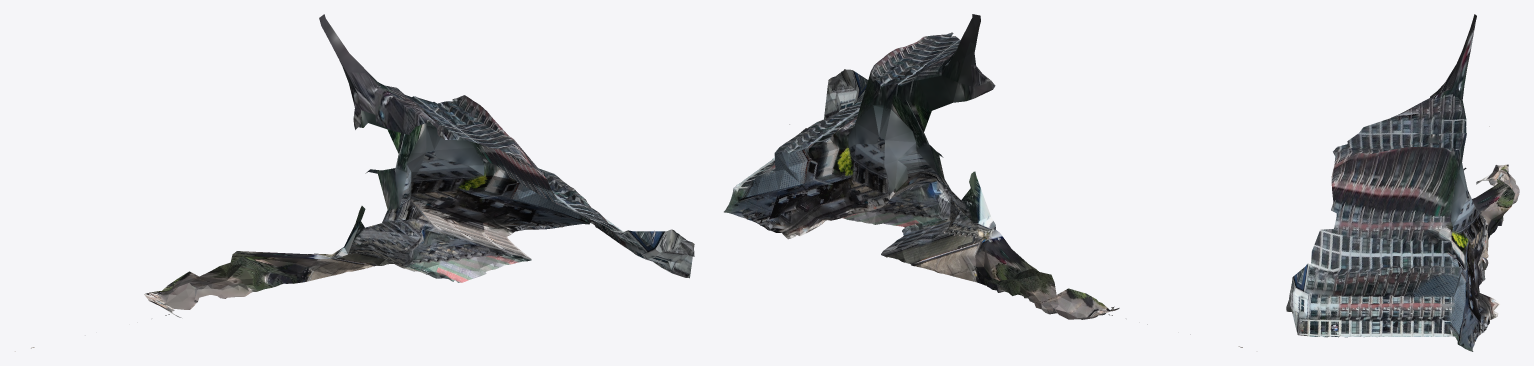
The model's file is Tile_+001_+004.obj.
3 views of the same model, side by side, from view 1: azimuth 30°, elevation 25°; view 2: azimuth 150°, elevation 25°; view 3: azimuth 270°, elevation 25° (orthographic). The views are drawn at different scales.
Size of the model in its own units: 155 by 70.97 by 65.66.
Materials: 2 (2 with a texture image).
